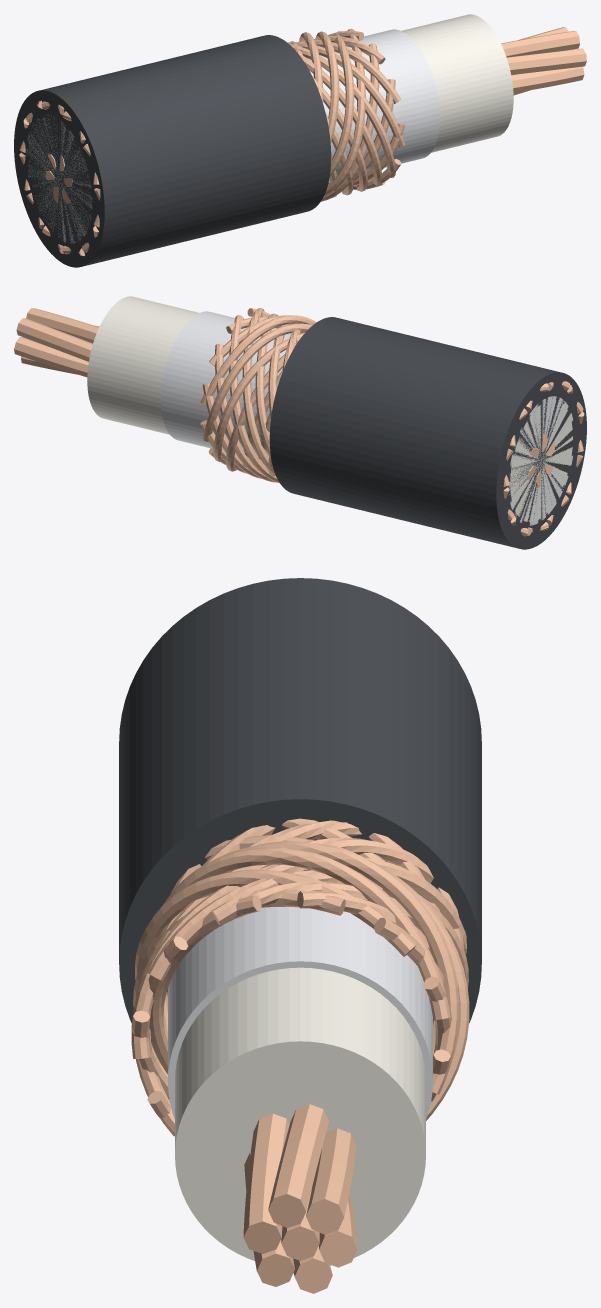
Rendered from coaxial.glb.
3 views of the same model, one above another, from view 1: azimuth 30°, elevation 25°; view 2: azimuth 150°, elevation 25°; view 3: azimuth 270°, elevation 25° (orthographic). The views are drawn at different scales.
Parts seen in each view (by area): view 1: p0, p2, p1, p26, p31, p23, p27, p24, p7, p6, p22, p8 (+8 smaller); view 2: p0, p2, p1, p30, p21, p29, p22, p20, p31, p3, p4, p5 (+5 smaller); view 3: p0, p2, p1, p22, p21, p31, p26, p23, p30, p6, p7, p20 (+12 smaller).
Part boxes in pixels (left/top/right/bottom): p0: left=14, top=35, right=331, bottom=267; p2: left=28, top=14, right=513, bottom=239; p1: left=26, top=29, right=439, bottom=243; p26: left=45, top=48, right=586, bottom=179; p31: left=52, top=31, right=579, bottom=202; p23: left=23, top=34, right=354, bottom=176; p27: left=48, top=66, right=584, bottom=170; p24: left=37, top=28, right=365, bottom=196; p7: left=78, top=43, right=395, bottom=256; p6: left=93, top=42, right=405, bottom=237; p22: left=19, top=31, right=339, bottom=164; p8: left=58, top=53, right=382, bottom=253; p0: left=269, top=317, right=586, bottom=549; p2: left=87, top=296, right=572, bottom=522; p1: left=161, top=311, right=572, bottom=525; p30: left=16, top=318, right=552, bottom=473; p21: left=202, top=323, right=516, bottom=525; p29: left=14, top=337, right=555, bottom=456; p22: left=200, top=315, right=509, bottom=499; p20: left=213, top=332, right=532, bottom=535; p31: left=26, top=308, right=541, bottom=487; p3: left=229, top=315, right=553, bottom=483; p4: left=242, top=308, right=573, bottom=476; p5: left=255, top=313, right=584, bottom=455; p0: left=119, top=578, right=481, bottom=1023; p2: left=175, top=967, right=425, bottom=1265; p1: left=168, top=906, right=432, bottom=1118; p22: left=165, top=847, right=450, bottom=1020; p21: left=163, top=841, right=459, bottom=1094; p31: left=268, top=1104, right=328, bottom=1227; p26: left=243, top=1113, right=289, bottom=1253; p23: left=135, top=869, right=416, bottom=979; p30: left=306, top=1128, right=356, bottom=1234; p6: left=131, top=857, right=466, bottom=1058; p7: left=136, top=837, right=433, bottom=1136; p20: left=204, top=835, right=469, bottom=1120.
Bounding box in the file's own units: 0.343 × 0.104 × 0.104.
